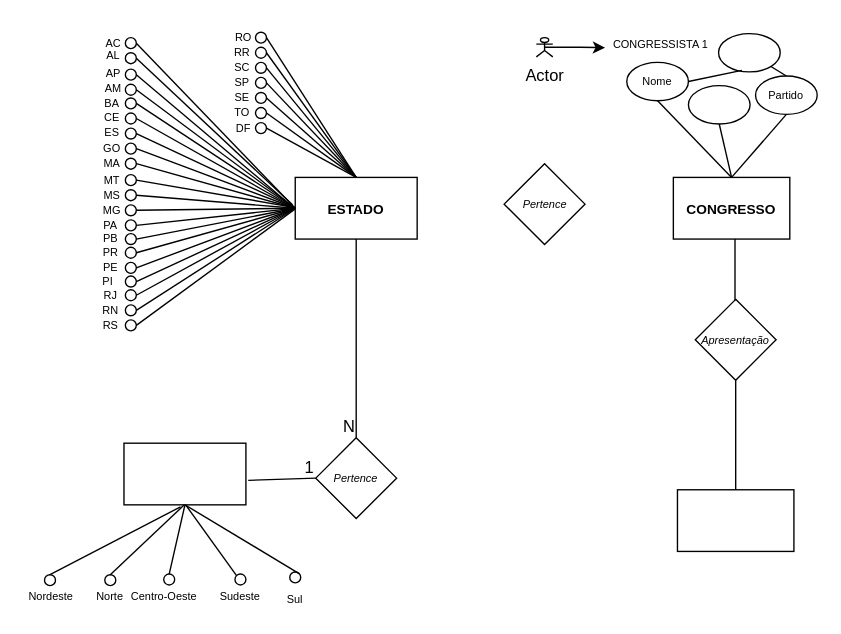
This 841x634 diagram has some shape labels left out. Here are the shapes that lost their labels. From the top down, the centre of each, then its label:
At point (748, 52): "Distrito".
At point (718, 104): "Data início".
At point (184, 473): "REGIÃO".
At point (735, 519): "votos PROJETO LEI".
